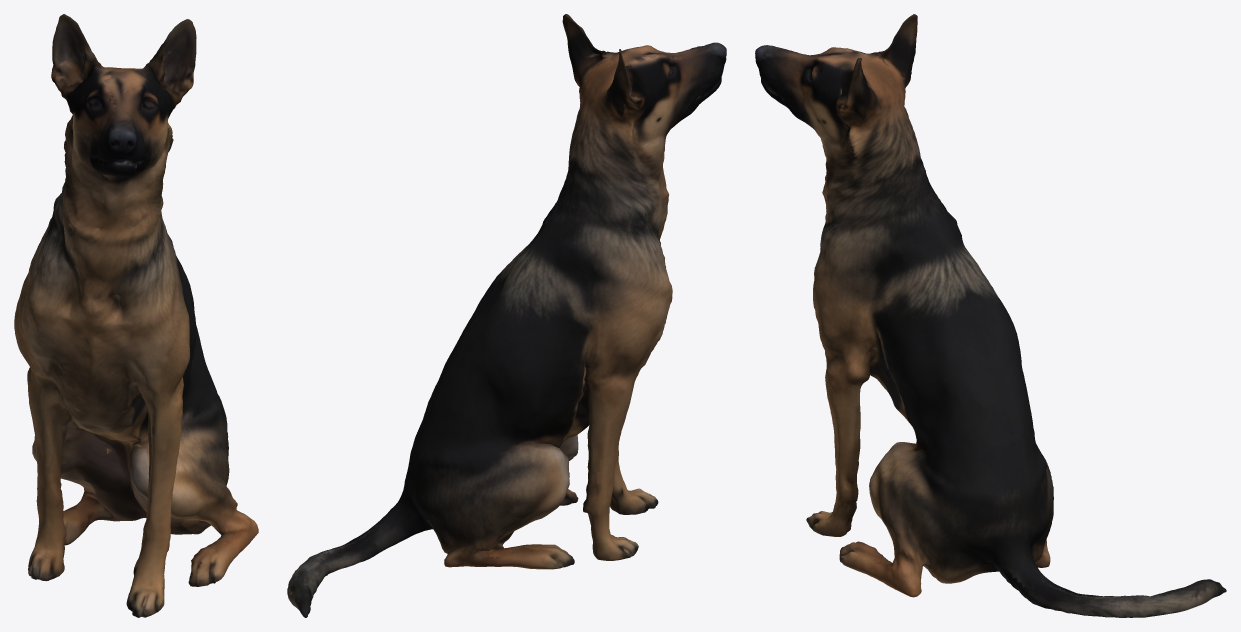
Rendered from dog.glb.
3 renders of one model, left to right at view 1: azimuth 30°, elevation 25°; view 2: azimuth 150°, elevation 25°; view 3: azimuth 270°, elevation 25°, orthographic. The views are drawn at different scales.
Visible parts, largest first — view 1: Animal_Dog_RtSit_1307; view 2: Animal_Dog_RtSit_1307; view 3: Animal_Dog_RtSit_1307.
Boxes of the visible parts, <box> form: Animal_Dog_RtSit_1307: <box>14,14,258,617</box>; Animal_Dog_RtSit_1307: <box>287,14,726,617</box>; Animal_Dog_RtSit_1307: <box>755,14,1226,617</box>.
Size of the model in its own units: 0.5321 by 1 by 0.8527.
1 material, 1 textured.
